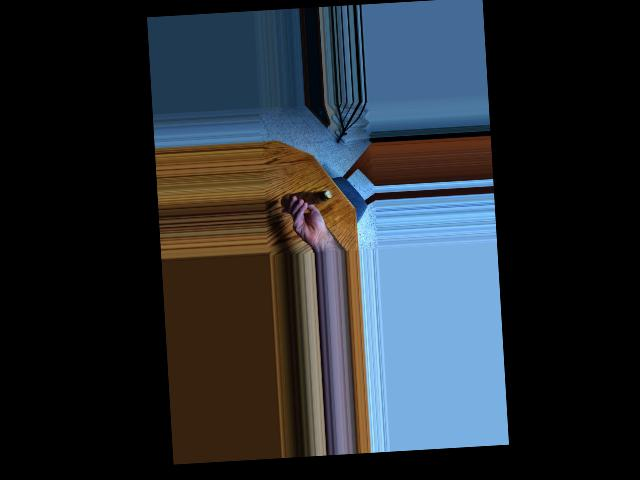sweet_potato: (288, 190, 333, 204)
